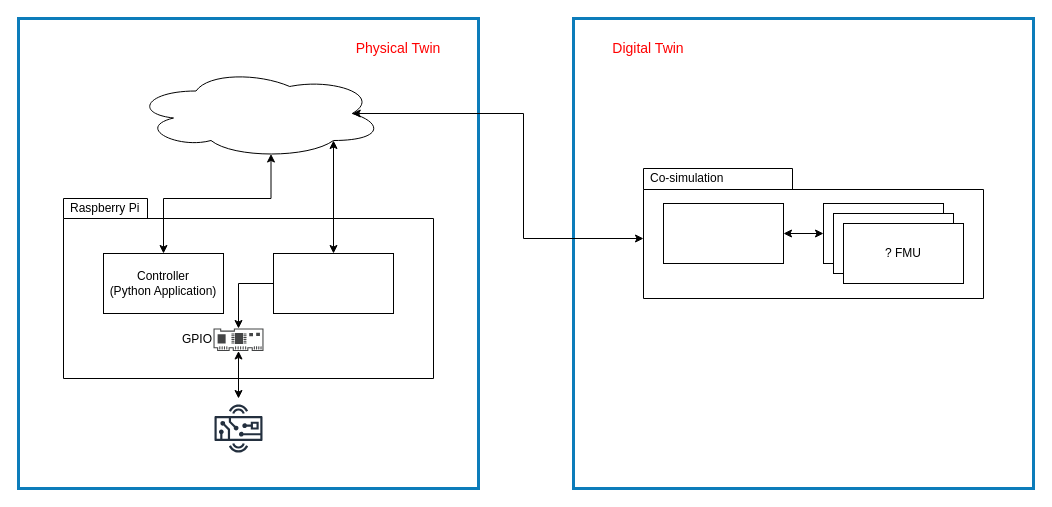
This 1052x507 diagram has some shape labels left out. Here are the shapes that lost their labels. From the top down, the centre of each, then its label:
At pixel 258 113: "Rabbit MQ server".
At pixel 723 233: "RabbitMQ FMU".
At pixel 333 283: "low_level_driver (Python Application)".
At pixel 238 428: "Temperature sensors, fan, heater".
